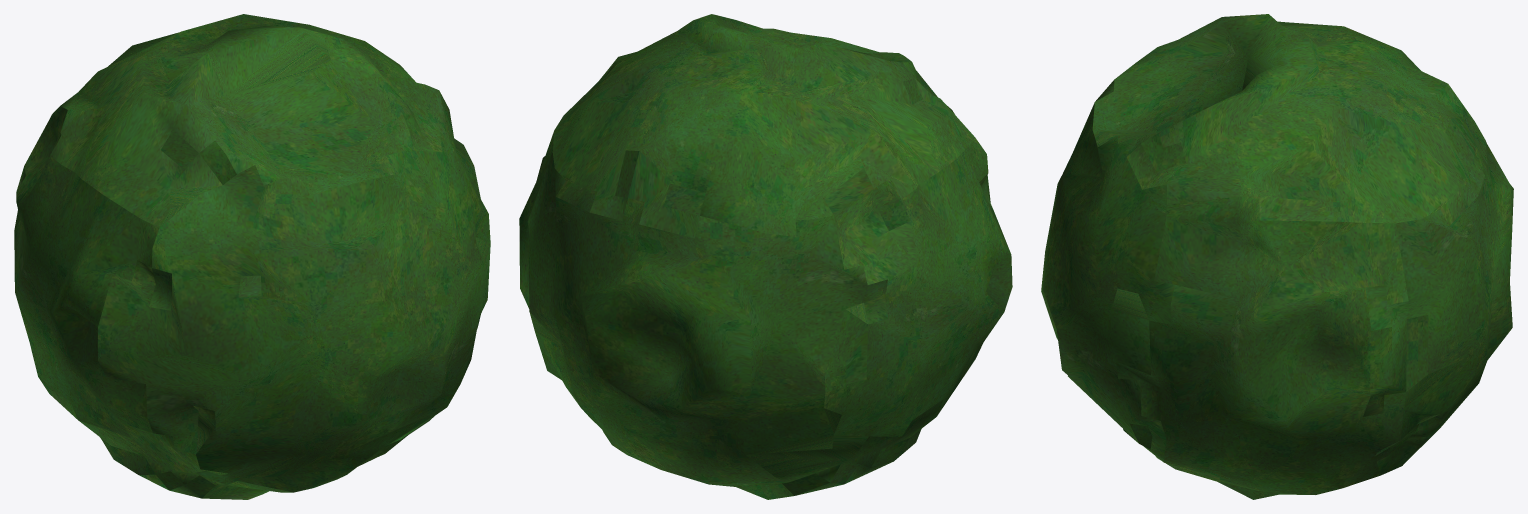
The model's file is bigrelayplanetalow.dae.
3 renders of one model, left to right at view 1: azimuth 30°, elevation 25°; view 2: azimuth 150°, elevation 25°; view 3: azimuth 270°, elevation 25°, orthographic.
Parts seen in each view (by area): view 1: n0b0; view 2: n0b0; view 3: n0b0.
Part boxes in pixels (x1=…): n0b0: x1=14, y1=14, x2=490, y2=499; n0b0: x1=519, y1=14, x2=1012, y2=499; n0b0: x1=1041, y1=14, x2=1513, y2=499.
Size of the model in its own units: 1501 by 1496 by 1477.
1 material, 1 textured.
